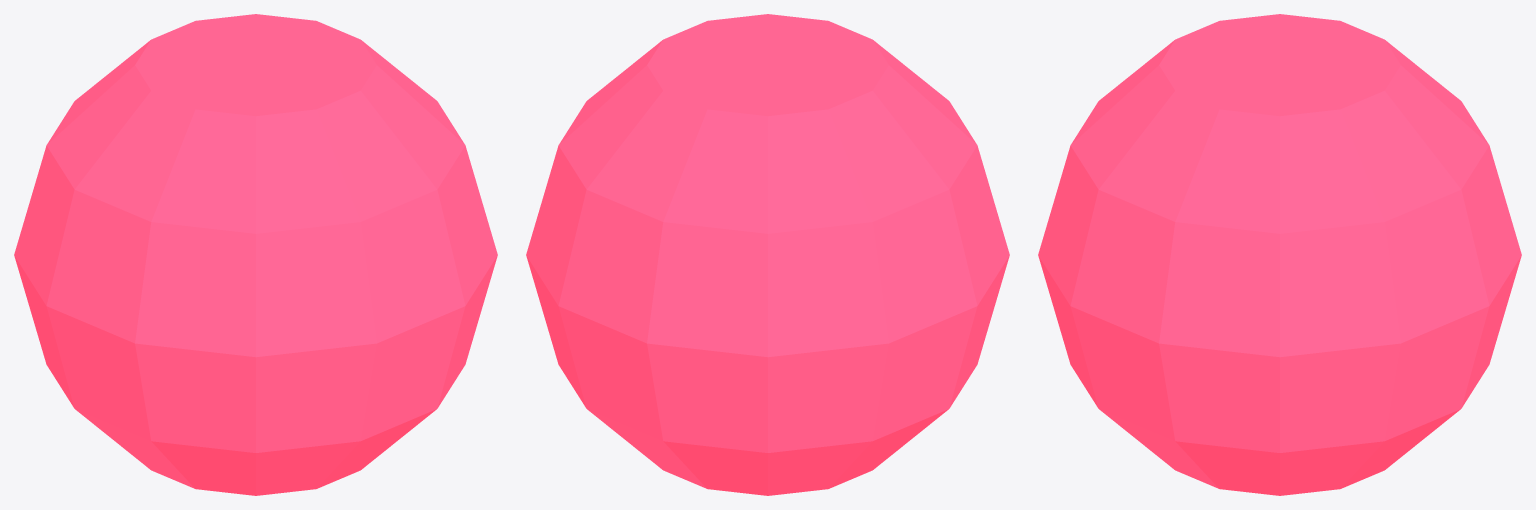
The model's file is spider_core.gltf.
The picture shows the model from 3 angles, left to right: view 1: azimuth 30°, elevation 25°; view 2: azimuth 150°, elevation 25°; view 3: azimuth 270°, elevation 25°; orthographic projection.
Size of the model in its own units: 2.8 by 2.8 by 2.8.
